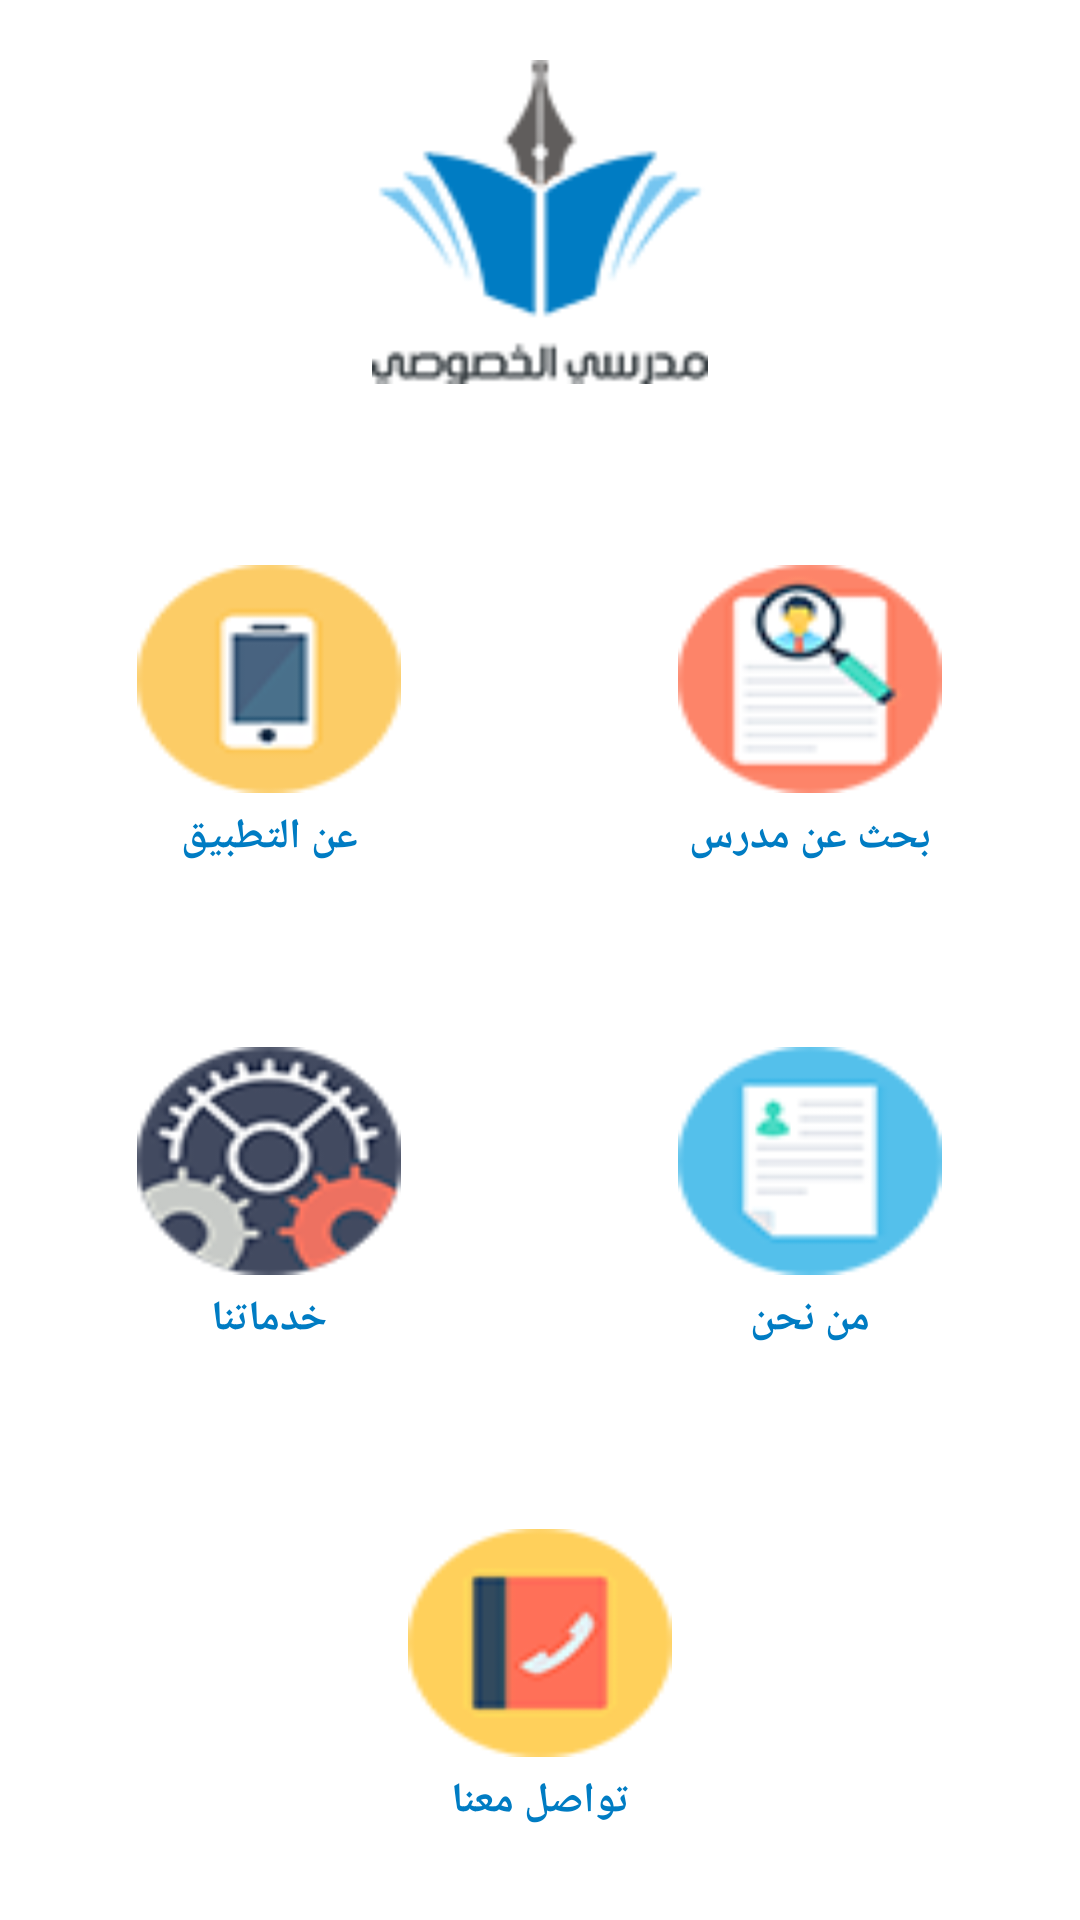

Icon bounding boxes for this 1080*1920 phone screenshot, format (x1, y1, x2, y2):
search: (678, 565, 942, 793)
